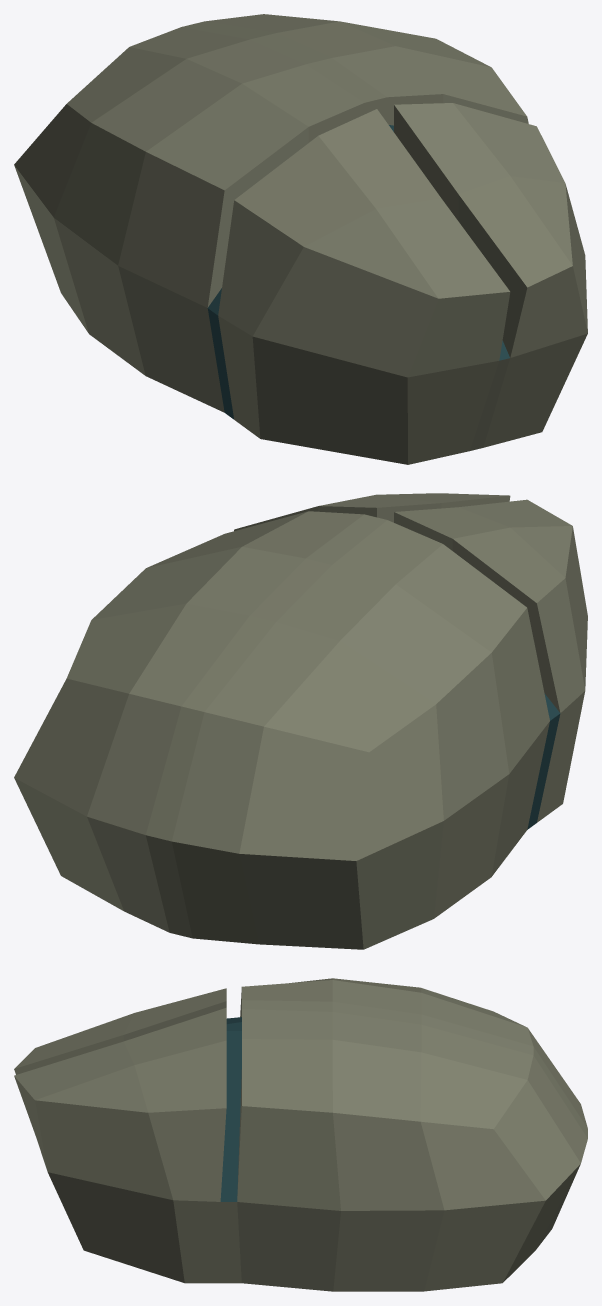
File: Small Mouse.fbx
3 renders of one model, top to bottom at view 1: azimuth 30°, elevation 25°; view 2: azimuth 150°, elevation 25°; view 3: azimuth 270°, elevation 25°, orthographic. The views are drawn at different scales.
Parts seen in each view (by area): view 1: Small Mouse; view 2: Small Mouse; view 3: Small Mouse.
Boxes of the visible parts, bbox=[...] form: Small Mouse: bbox=[14, 14, 587, 464]; Small Mouse: bbox=[14, 493, 587, 949]; Small Mouse: bbox=[14, 978, 587, 1291].
Bounding box in the file's own units: 0.0924 × 0.0624 × 0.1474.
